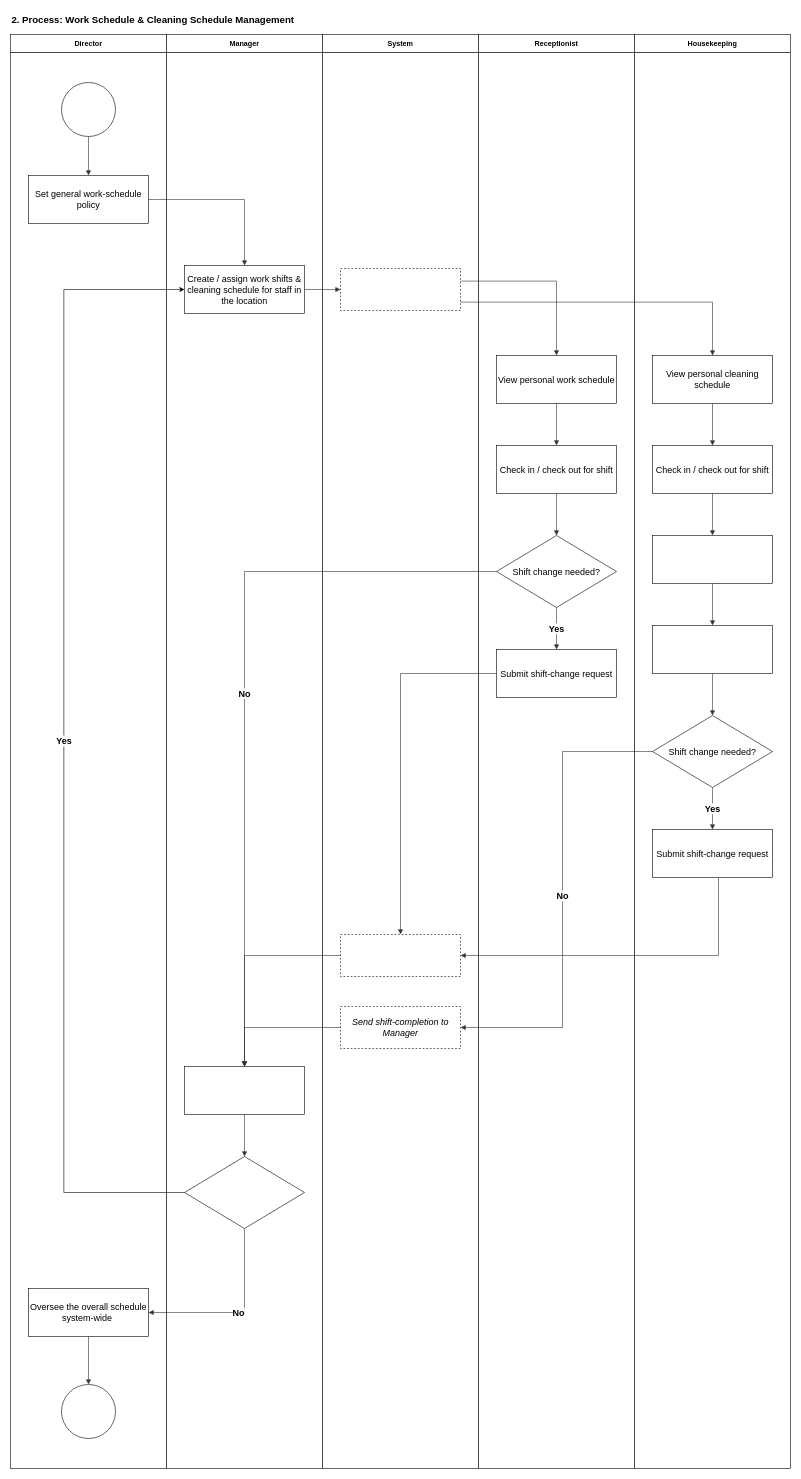
Image size: 801x1479. Some labels were removed from this diagram. Each missing label, with the centre of its shape:
End: the point at 88,1411
Monitor shift progress & status: the point at 244,1090
Perform cleaning shift: the point at 712,559
Schedule adjustment needed?: the point at 244,1192
Send schedule notification to staff: the point at 400,289
Send shift-change request to Manager: the point at 400,955
Start: the point at 88,109
Update shift-completion status: the point at 712,649
